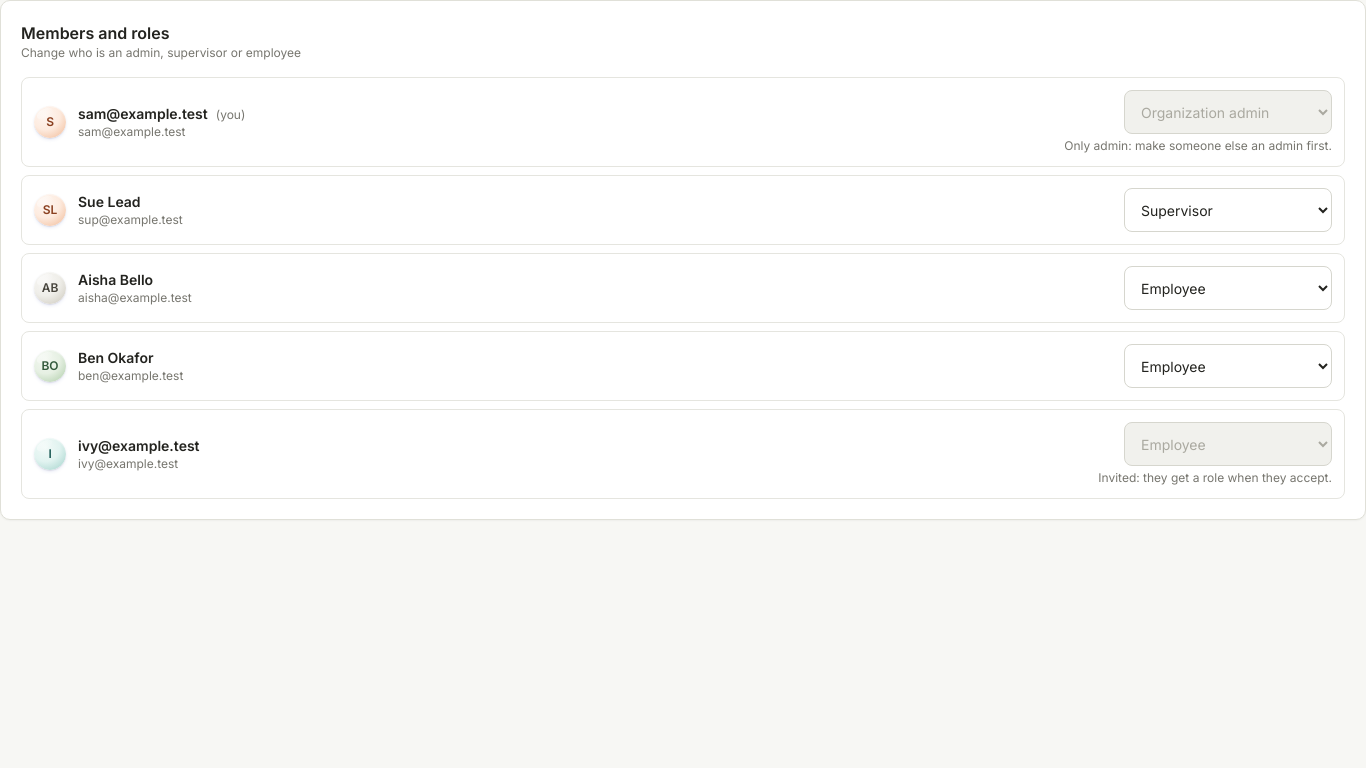
MemberRolesCard › opens the confirmation dialog, saves, and reports success
Select "Supervisor" in the dropdown named "Role for Aisha Bello" in the row of "AB" at (1228, 288), box [1124, 266, 1332, 310]
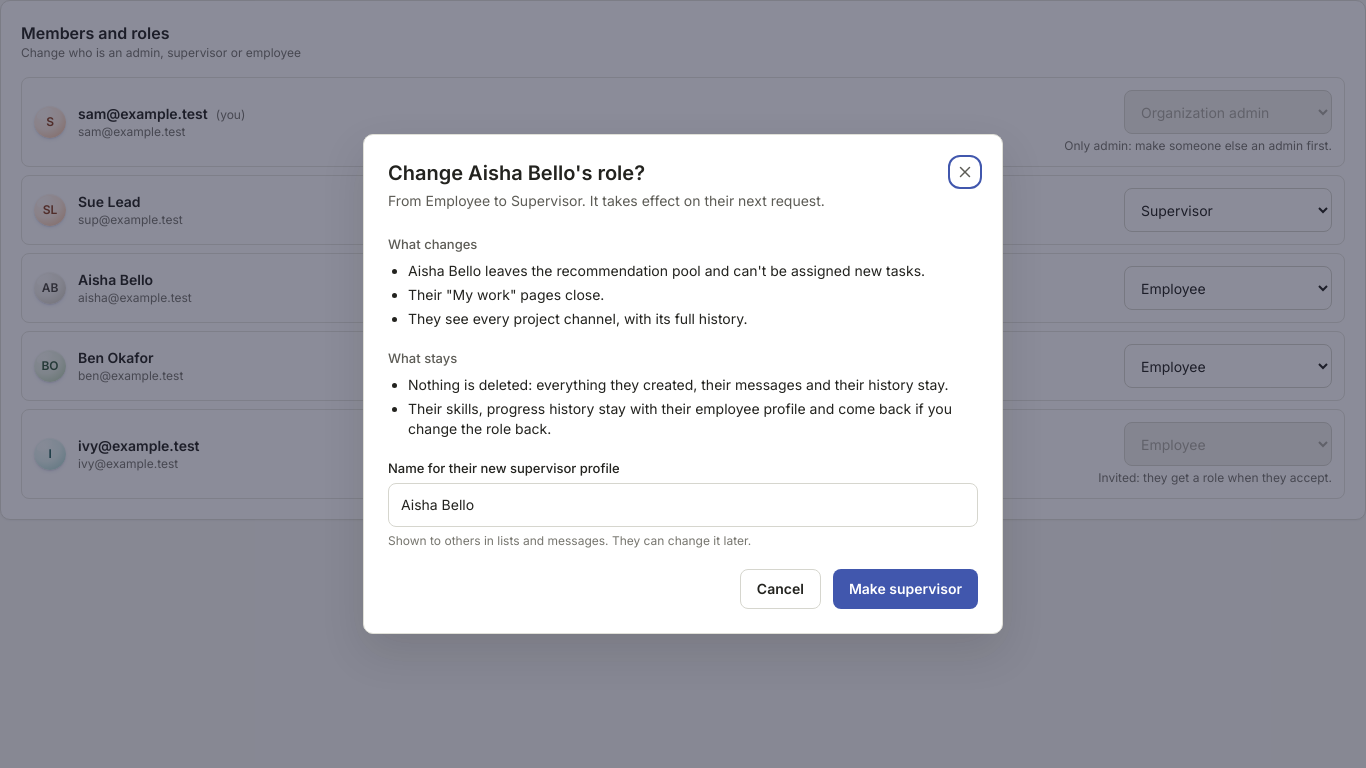
Click the button "Make supervisor" at (905, 589), box [833, 569, 978, 609]
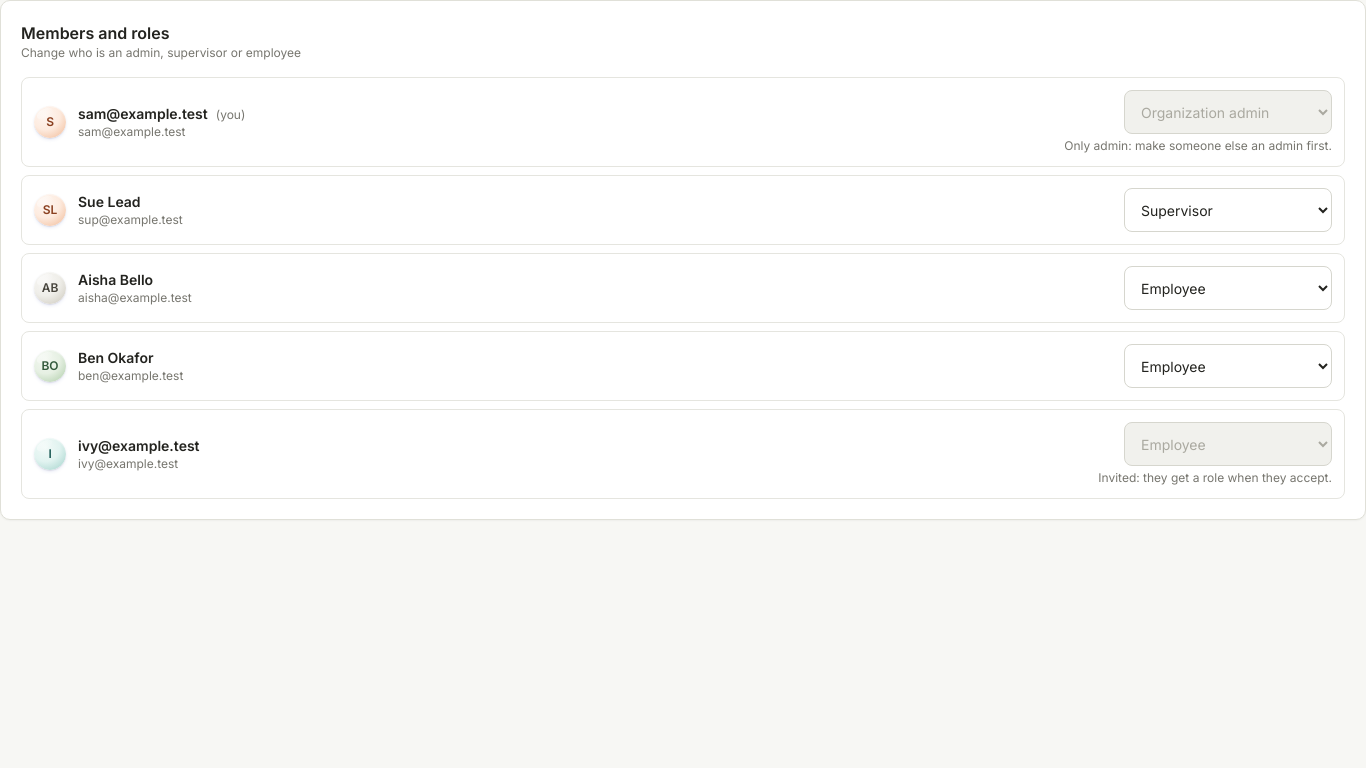
Check: the dialog is gone
